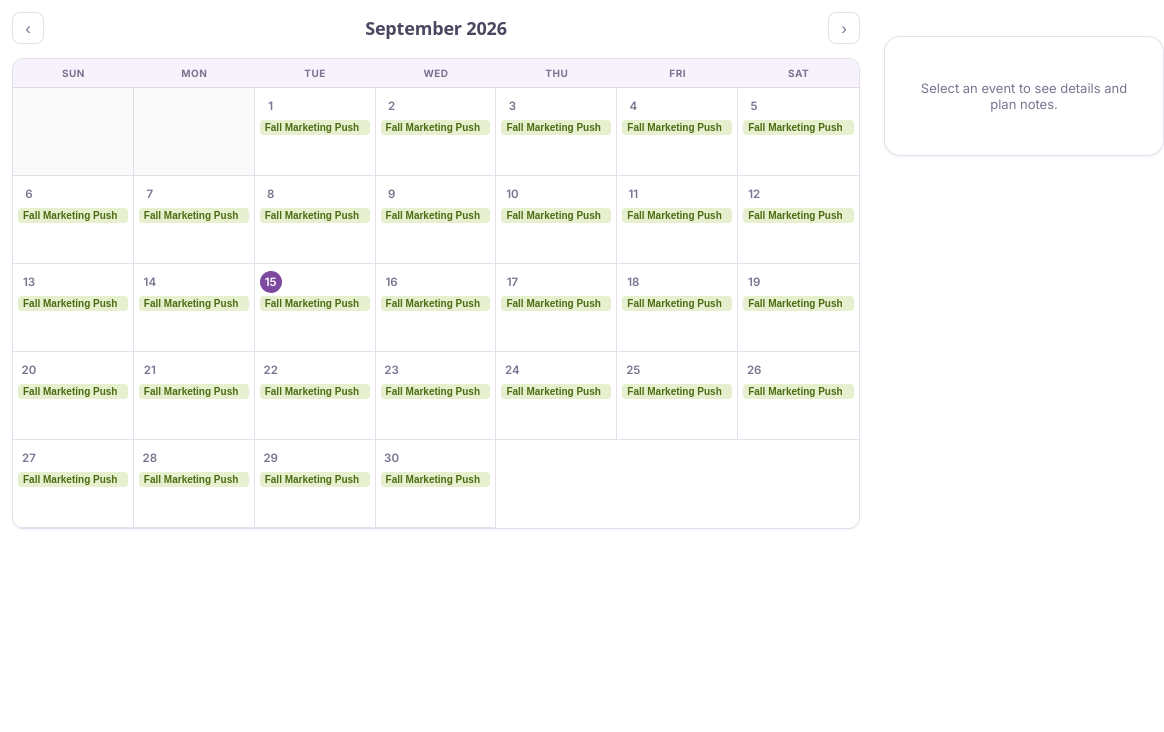
Test: CalendarView › toggles the detail panel off when the same chip is clicked twice
Click the 1st button "Fall Marketing Push" at [315, 128], box [260,120,370,135]
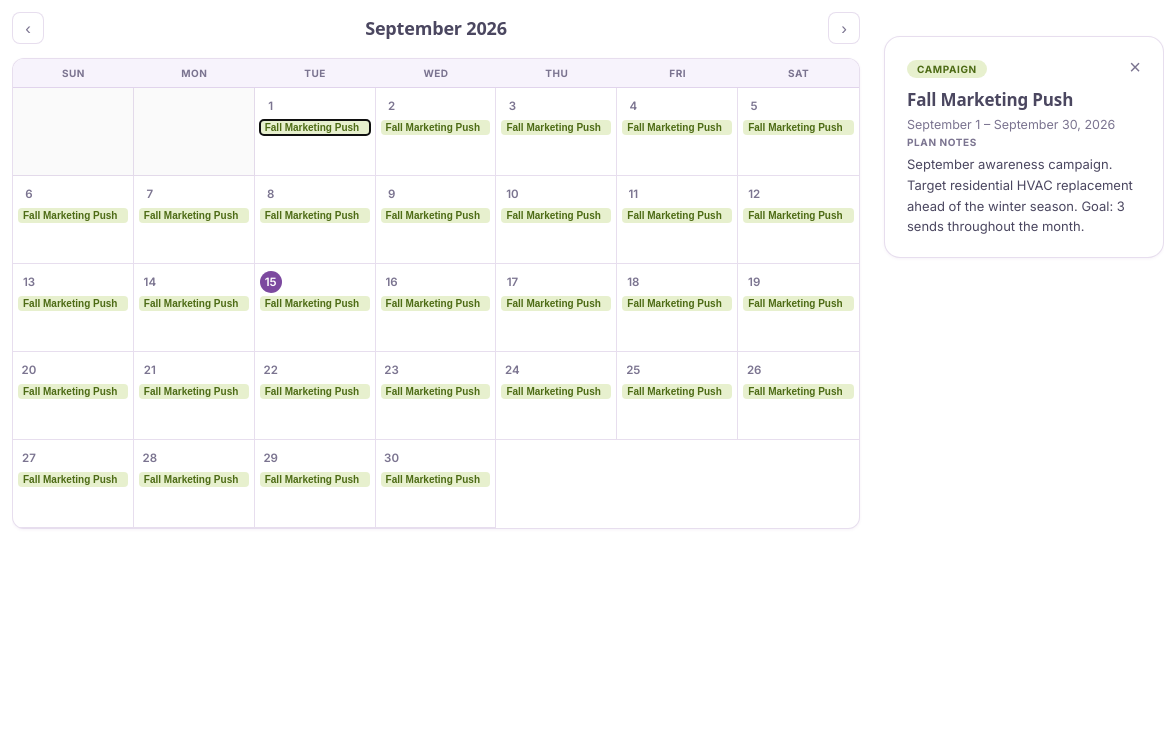
Result: the text "September awareness campaign" is shown at [907,156,1133,234]
Click the 1st button "Fall Marketing Push" at [315, 128], box [260,120,370,135]
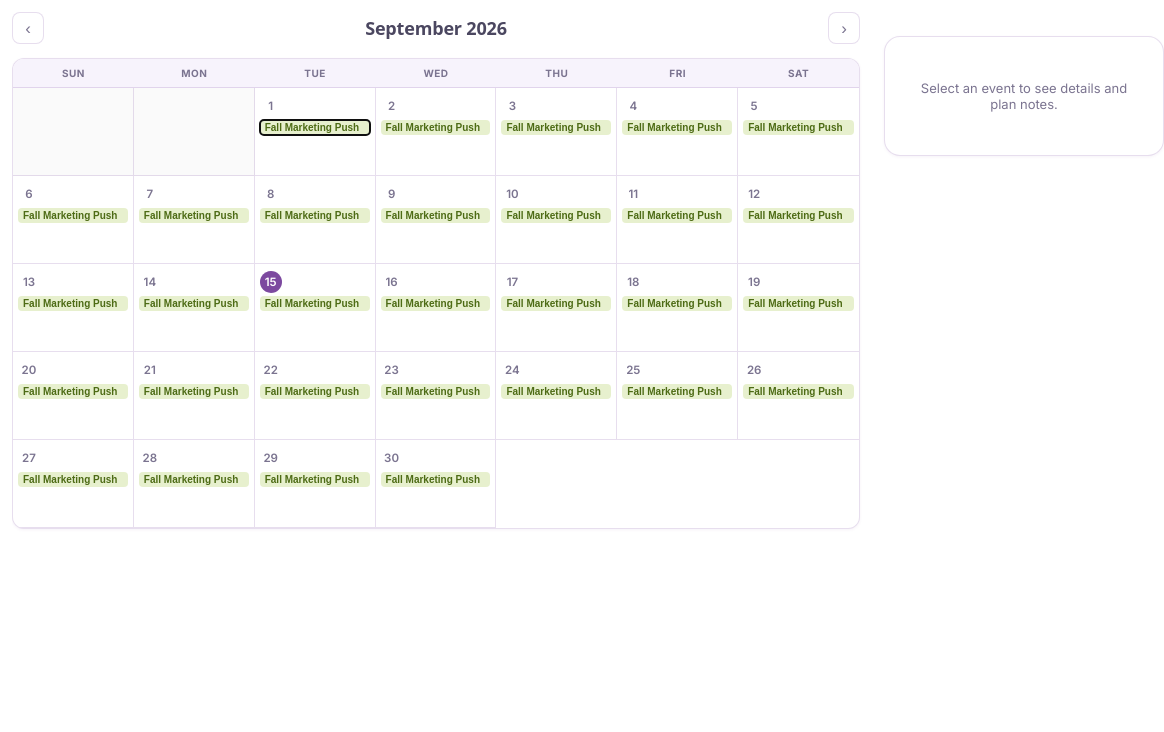
Result: the text "September awareness campaign" is gone
Result: the text "Select an event to see details and plan notes." is shown at [909,80,1139,112]
